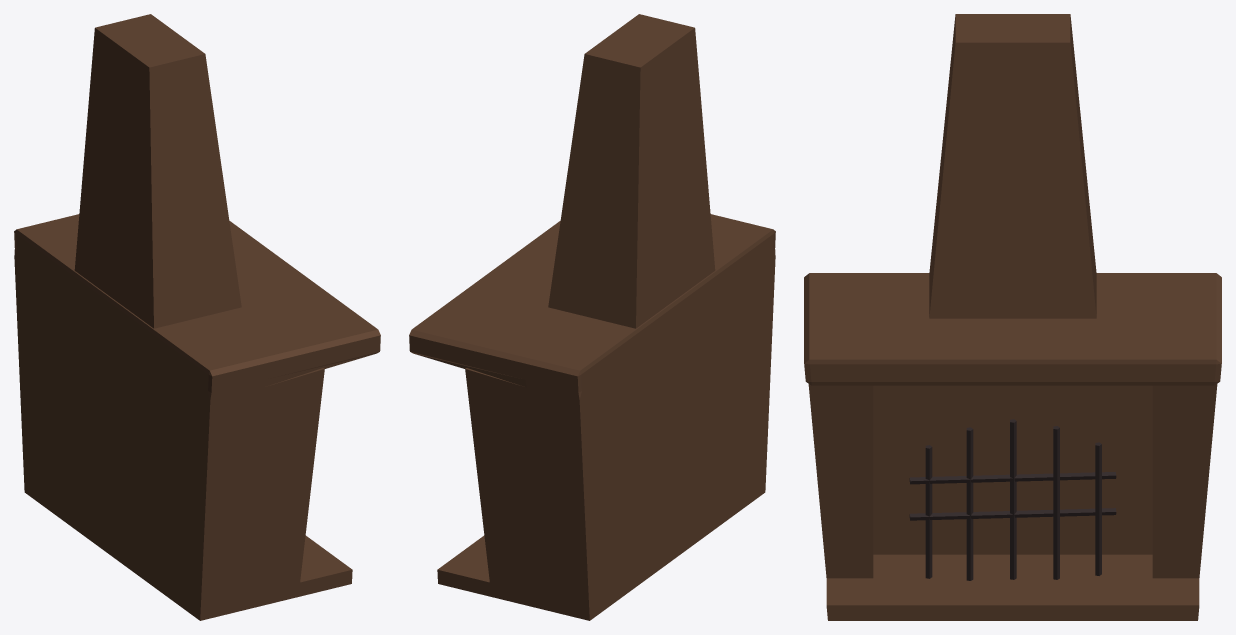
Rendered from cheminé.fbx.
3 views of the same model, side by side, from view 1: azimuth 30°, elevation 25°; view 2: azimuth 150°, elevation 25°; view 3: azimuth 270°, elevation 25° (orthographic). The views are drawn at different scales.
Visible parts, largest first — view 1: Cube; view 2: Cube; view 3: Cube.
Part boxes in pixels (x1,y1,x2,y2): Cube: [14, 14, 380, 620]; Cube: [409, 14, 775, 620]; Cube: [804, 14, 1221, 620].
Size of the model in its own units: 280 by 797 by 565.
